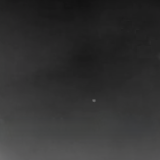Target: (92, 99, 96, 103)
